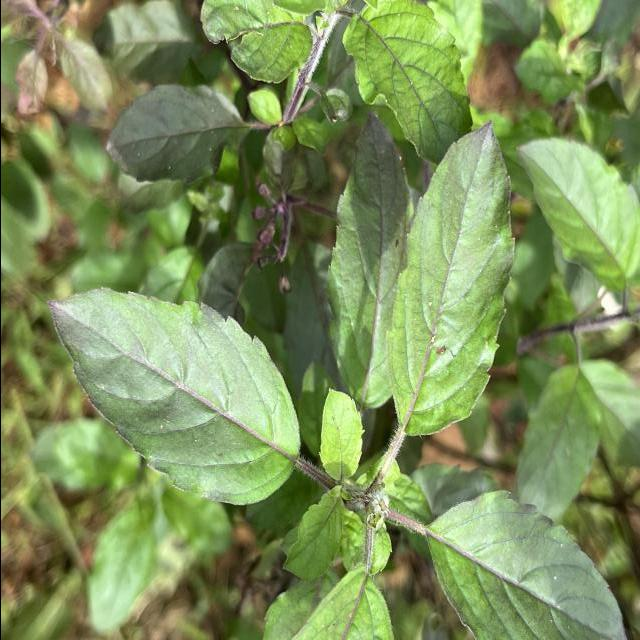Ocimum tenuiflorum: (44, 284, 302, 508), (383, 117, 517, 441)
